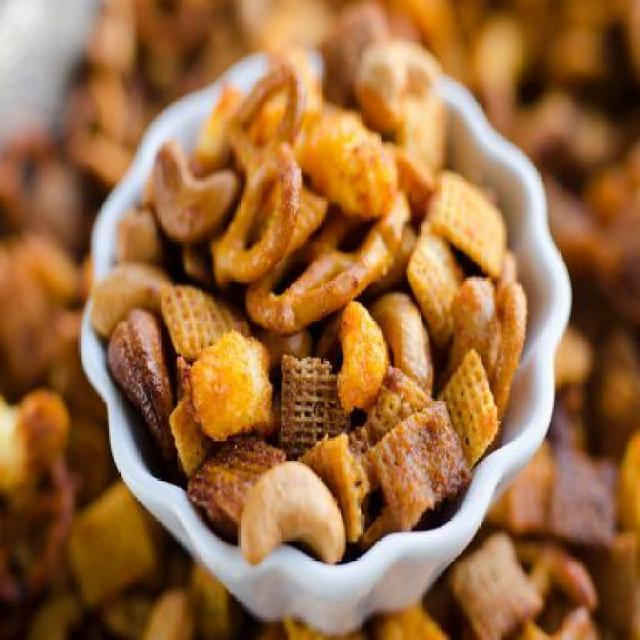Salatini packaged: (111, 23, 537, 557)
